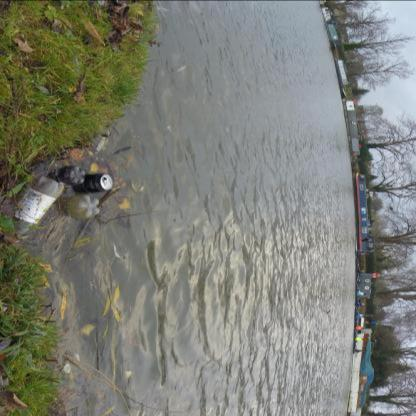Bottle cap: (12, 174, 64, 236), (68, 194, 100, 220), (57, 165, 85, 186)
Can: (84, 173, 113, 194)
Pop tab: (104, 180, 110, 186)
